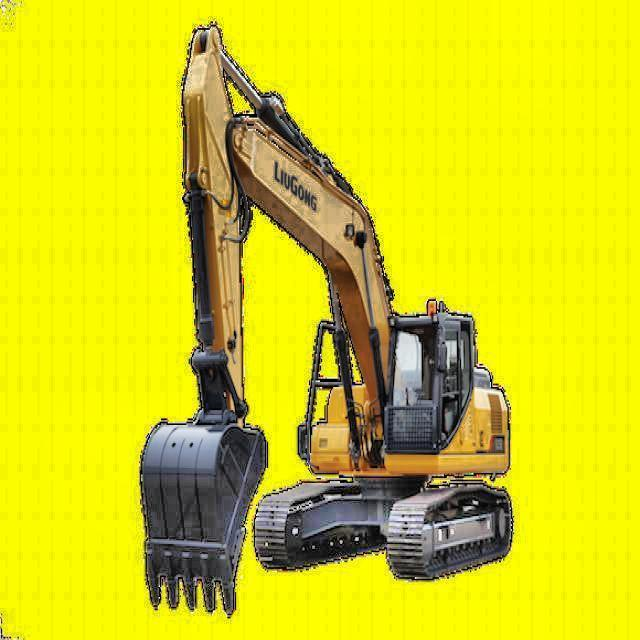excavator: (138, 23, 526, 622)
